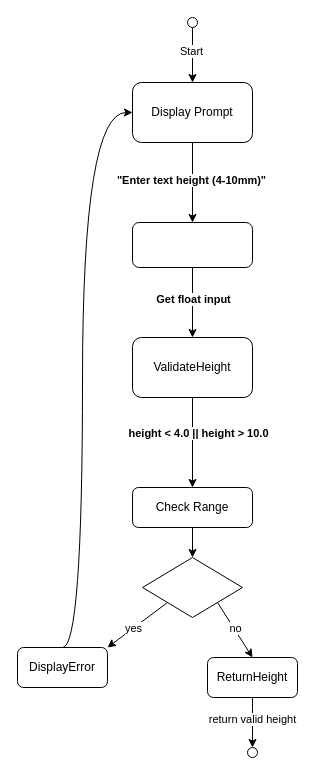
This 315x775 diagram has some shape labels left out. Here are the shapes that lost their labels. From the top down, the centre of each, then its label:
(192,245): GetInput
(192,587): Range invalid?
